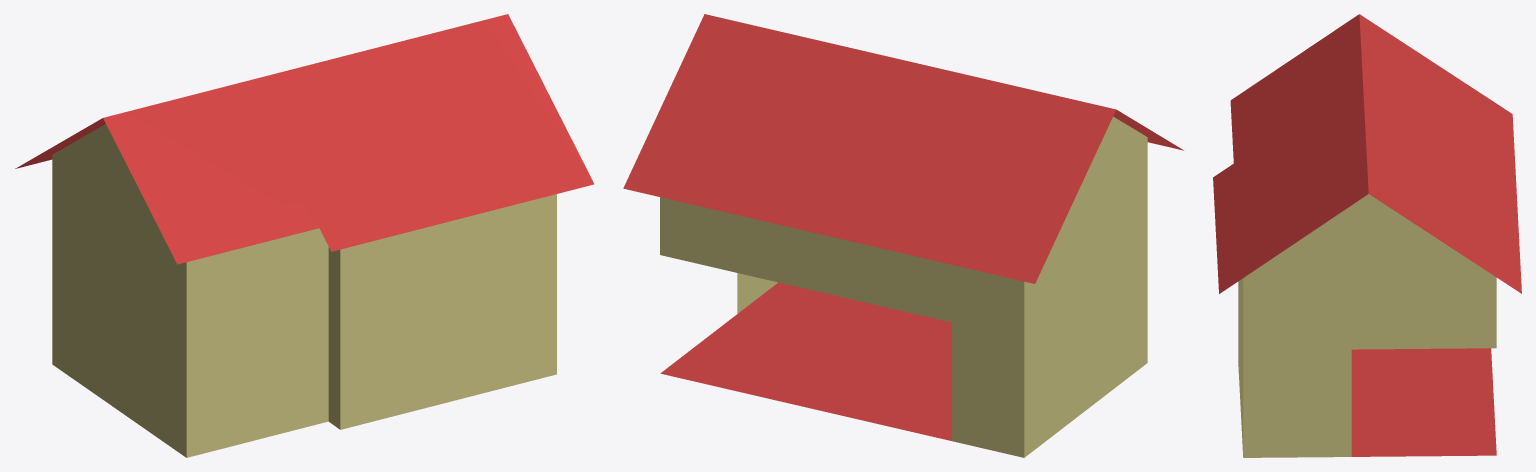
The picture shows the model from 3 angles, left to right: view 1: azimuth 30°, elevation 25°; view 2: azimuth 150°, elevation 25°; view 3: azimuth 270°, elevation 25°; orthographic projection. The views are drawn at different scales.
Bounding box in the file's own units: 17.51 × 12.51 × 12.21.
